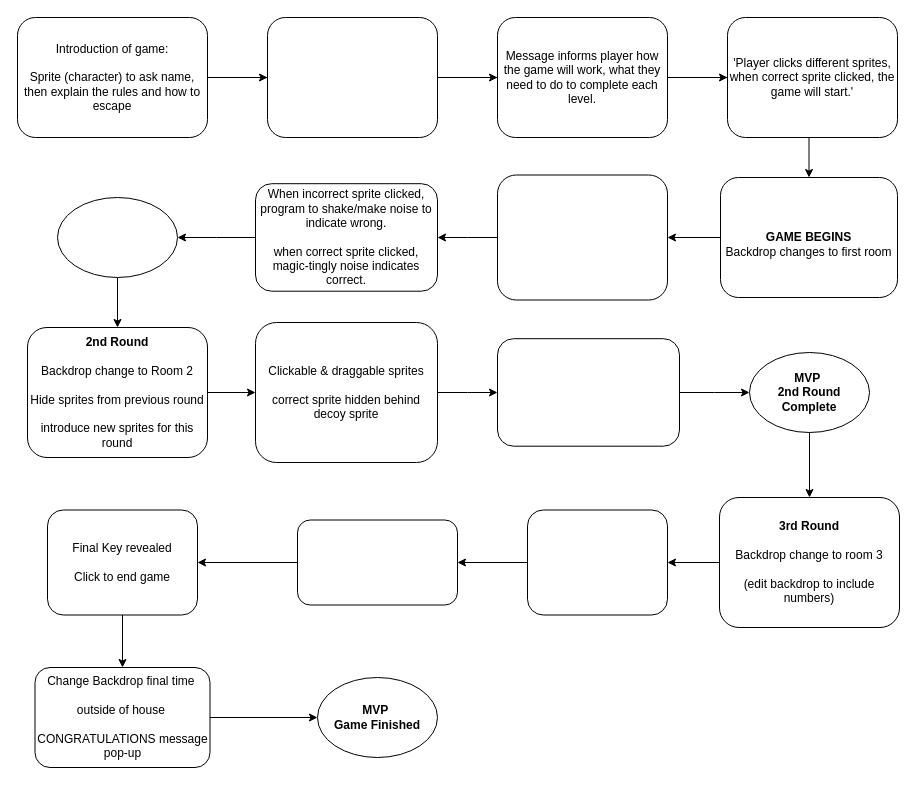
Some shapes in this 917 by 785 pixel diagram are drawn without their labels. The shapes that lost their labels are listed below. From the top down, each one's centre as x and y in pixels, then its label:
At (x=352, y=77): "Backdrop in Message pop-up when GreenFlag Clicked.".
At (x=117, y=237): "MVP Game Complete".
At (x=582, y=237): "Put decoy sprites and correct sprite in location on the backdrop.".
At (x=588, y=392): "when correct sprite clicked, magic-tingly noise indicates correct.".
At (x=377, y=562): "Interactive Sprite - asking for 4-digit code to reveal key".
At (x=597, y=562): "Hide sprites from previous round introduce new sprites for this round".
